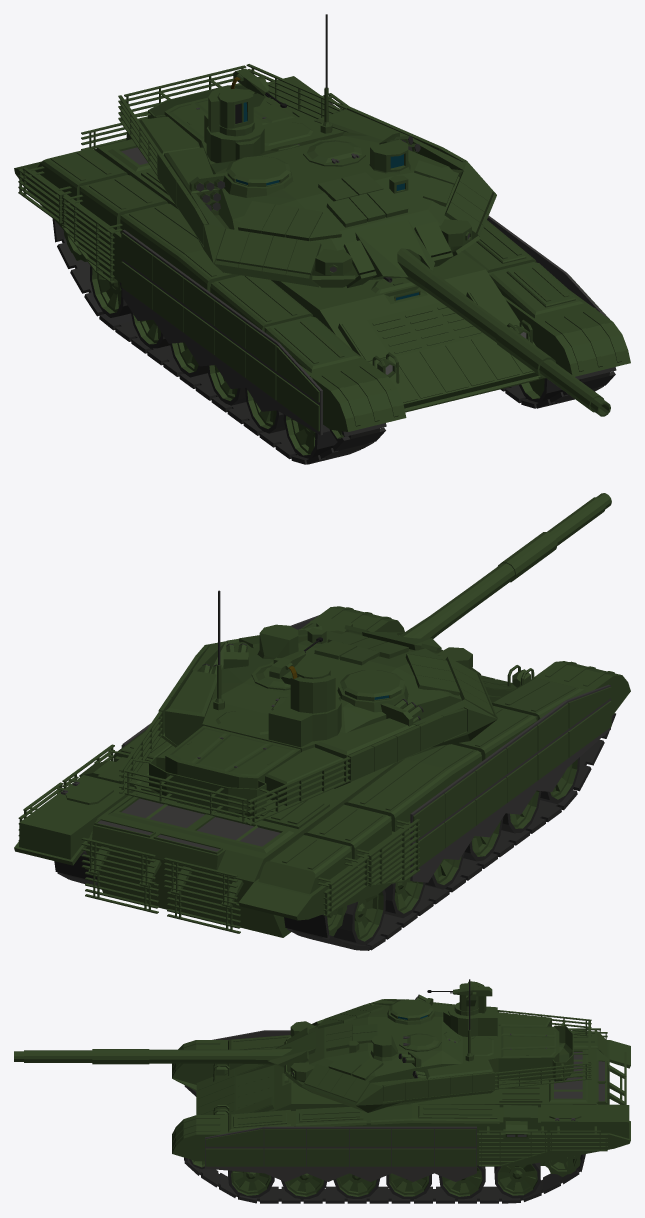
3 views of the same model, one above another, from view 1: azimuth 30°, elevation 25°; view 2: azimuth 150°, elevation 25°; view 3: azimuth 270°, elevation 25° (orthographic). The views are drawn at different scales.
Parts seen in each view (by area): view 1: Hull, Turret, Gun, TrackR, MGBase, WheelR2, TrackL, WheelR7, WheelR3, WheelR4, WheelR6, WheelR5 (+1 smaller); view 2: Hull, Turret, Gun, TrackR, MGBase, WheelR7, WheelR6, WheelR3, WheelR4, WheelR2, WheelR5, TrackL; view 3: Hull, Turret, Gun, TrackL, WheelL7, WheelL2, WheelL6, WheelL5, WheelL4, WheelL3, MGBase, SproketL (+1 smaller).
Boxes of the visible parts, box(x1,y1,x2,y2) form: Hull: box(14, 76, 630, 435); Turret: box(118, 14, 496, 287); Gun: box(355, 219, 610, 416); TrackR: box(52, 218, 386, 464); MGBase: box(208, 76, 269, 136); WheelR2: box(283, 414, 337, 458); TrackL: box(500, 367, 616, 408); WheelR7: box(90, 265, 130, 317); WheelR3: box(245, 388, 285, 433); WheelR4: box(207, 365, 246, 405); WheelR6: box(130, 310, 170, 348); WheelR5: box(170, 342, 207, 377); Hull: box(14, 606, 630, 937); Turret: box(119, 590, 497, 825); Gun: box(362, 493, 611, 650); TrackR: box(284, 713, 615, 950); MGBase: box(273, 657, 335, 713); WheelR7: box(332, 889, 385, 944); WheelR6: box(384, 872, 425, 917); WheelR3: box(501, 790, 541, 833); WheelR4: box(463, 817, 503, 861); WheelR2: box(540, 757, 579, 803); WheelR5: box(425, 852, 464, 889); TrackL: box(54, 851, 100, 886); Hull: box(172, 1028, 630, 1181); Turret: box(284, 979, 591, 1112); Gun: box(14, 1031, 315, 1067); TrackL: box(184, 1154, 585, 1203); WheelL7: box(494, 1162, 540, 1198); WheelL2: box(228, 1170, 274, 1197); WheelL6: box(438, 1165, 485, 1199); WheelL5: box(386, 1173, 431, 1199); WheelL4: box(333, 1173, 380, 1198); WheelL3: box(281, 1173, 326, 1199); MGBase: box(454, 981, 486, 1015); SproketL: box(543, 1155, 580, 1176).
Size of what is drawn, in the model's own units: 371 by 329 by 935.
